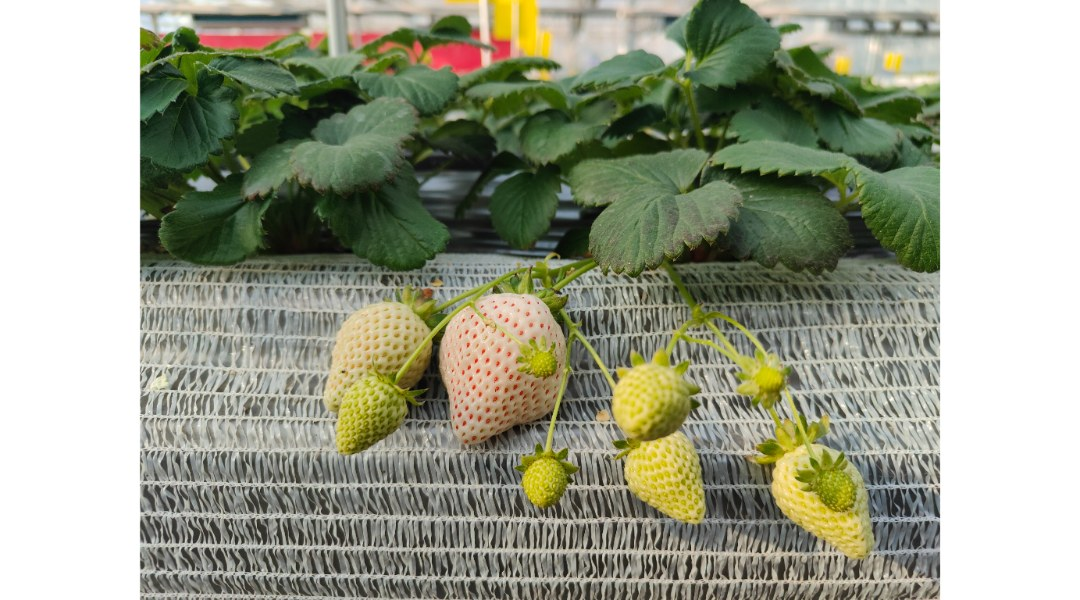berry: (443, 275, 564, 452), (755, 424, 887, 569), (315, 291, 440, 398), (617, 414, 713, 531), (612, 344, 703, 439), (336, 373, 413, 463), (795, 457, 865, 514), (520, 446, 578, 509), (734, 355, 789, 397), (519, 336, 563, 379)
strain: (568, 327, 632, 392), (668, 266, 708, 313), (542, 383, 562, 465)
